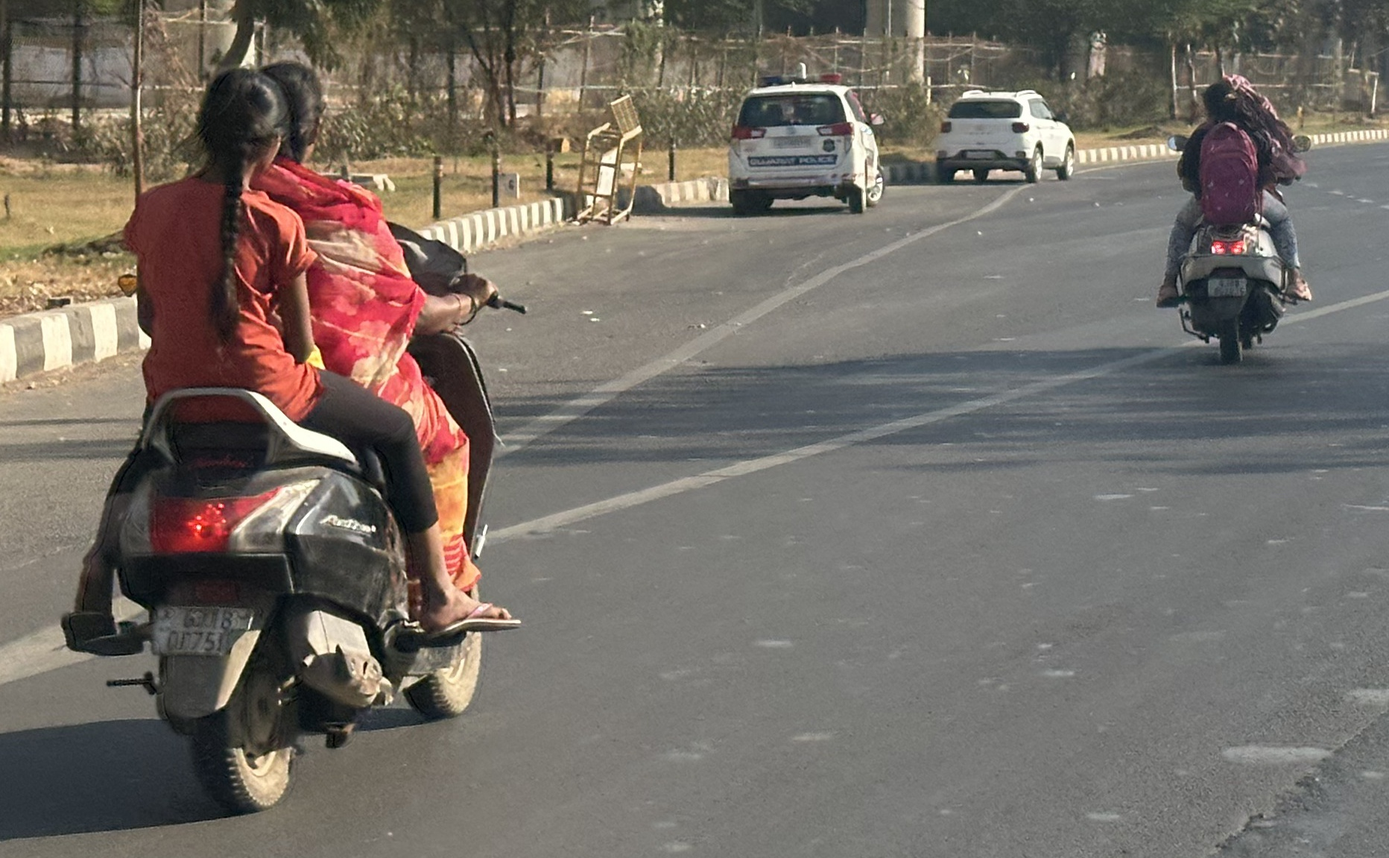BikeWithRider: (45, 45, 538, 827), (1143, 61, 1322, 372)
NoHelmet: (183, 58, 300, 188), (247, 50, 336, 171), (1210, 65, 1260, 118), (1193, 78, 1241, 126)
